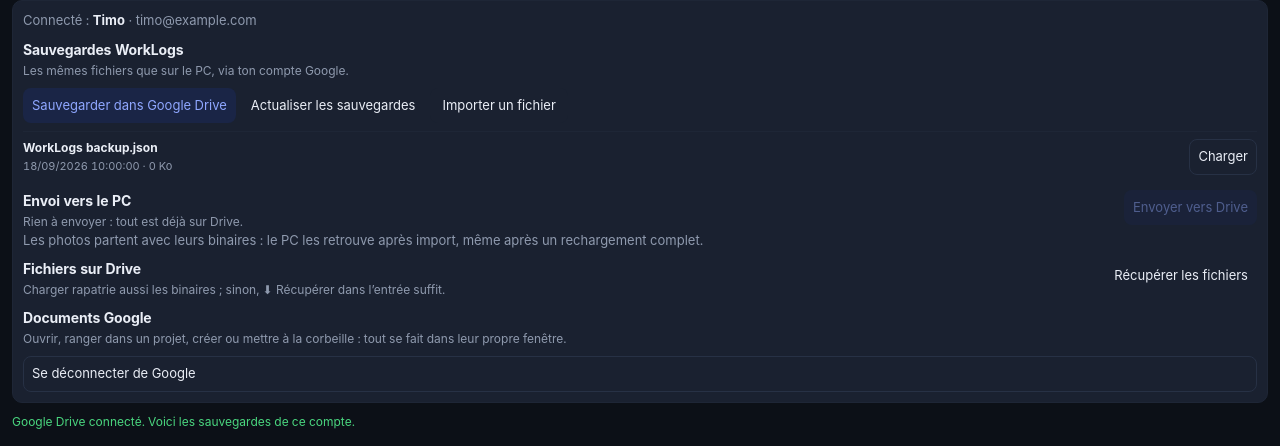
Test: panneau Drive de la PWA › retour OAuth échangé puis sauvegardes listées et chargées
Check: the text "Google Drive connecté. Voici les sauvegardes de ce compte." is shown, box [12,414,355,428]
Check: the text "WorkLogs backup.json" is shown, box [23,139,172,157]
Click the button "Charger" at (1223, 157), box [1189,139,1257,174]
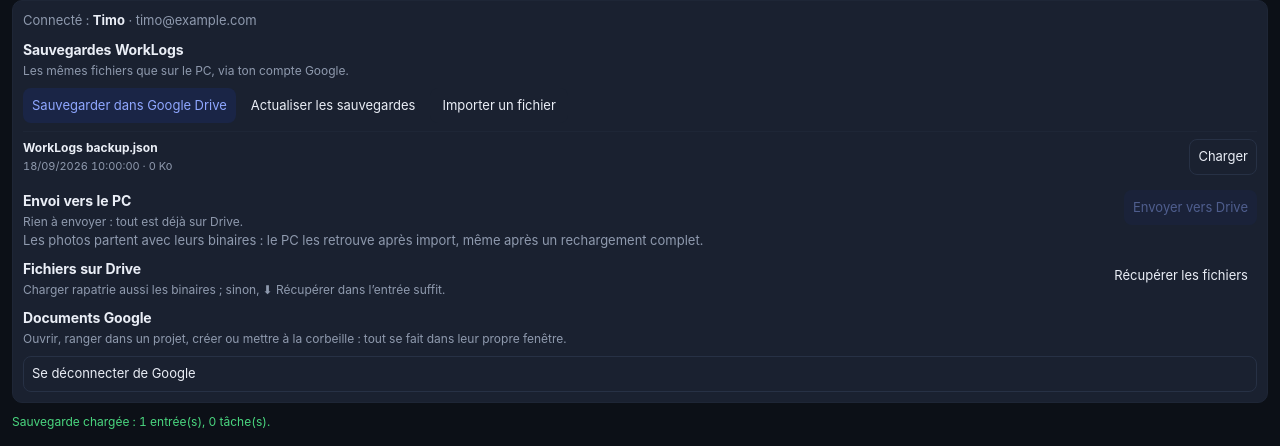
Check: the text "Sauvegarde chargée : 1 entrée(s), 0 tâche(s)." is shown, box [12,414,270,428]
